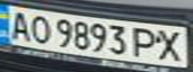3: (106, 22, 130, 56)
8: (69, 19, 90, 52)
9: (51, 16, 75, 48), (87, 20, 109, 54)
A: (3, 8, 33, 42)
O: (24, 12, 54, 45)
P: (130, 25, 163, 60)
X: (151, 27, 190, 63)
